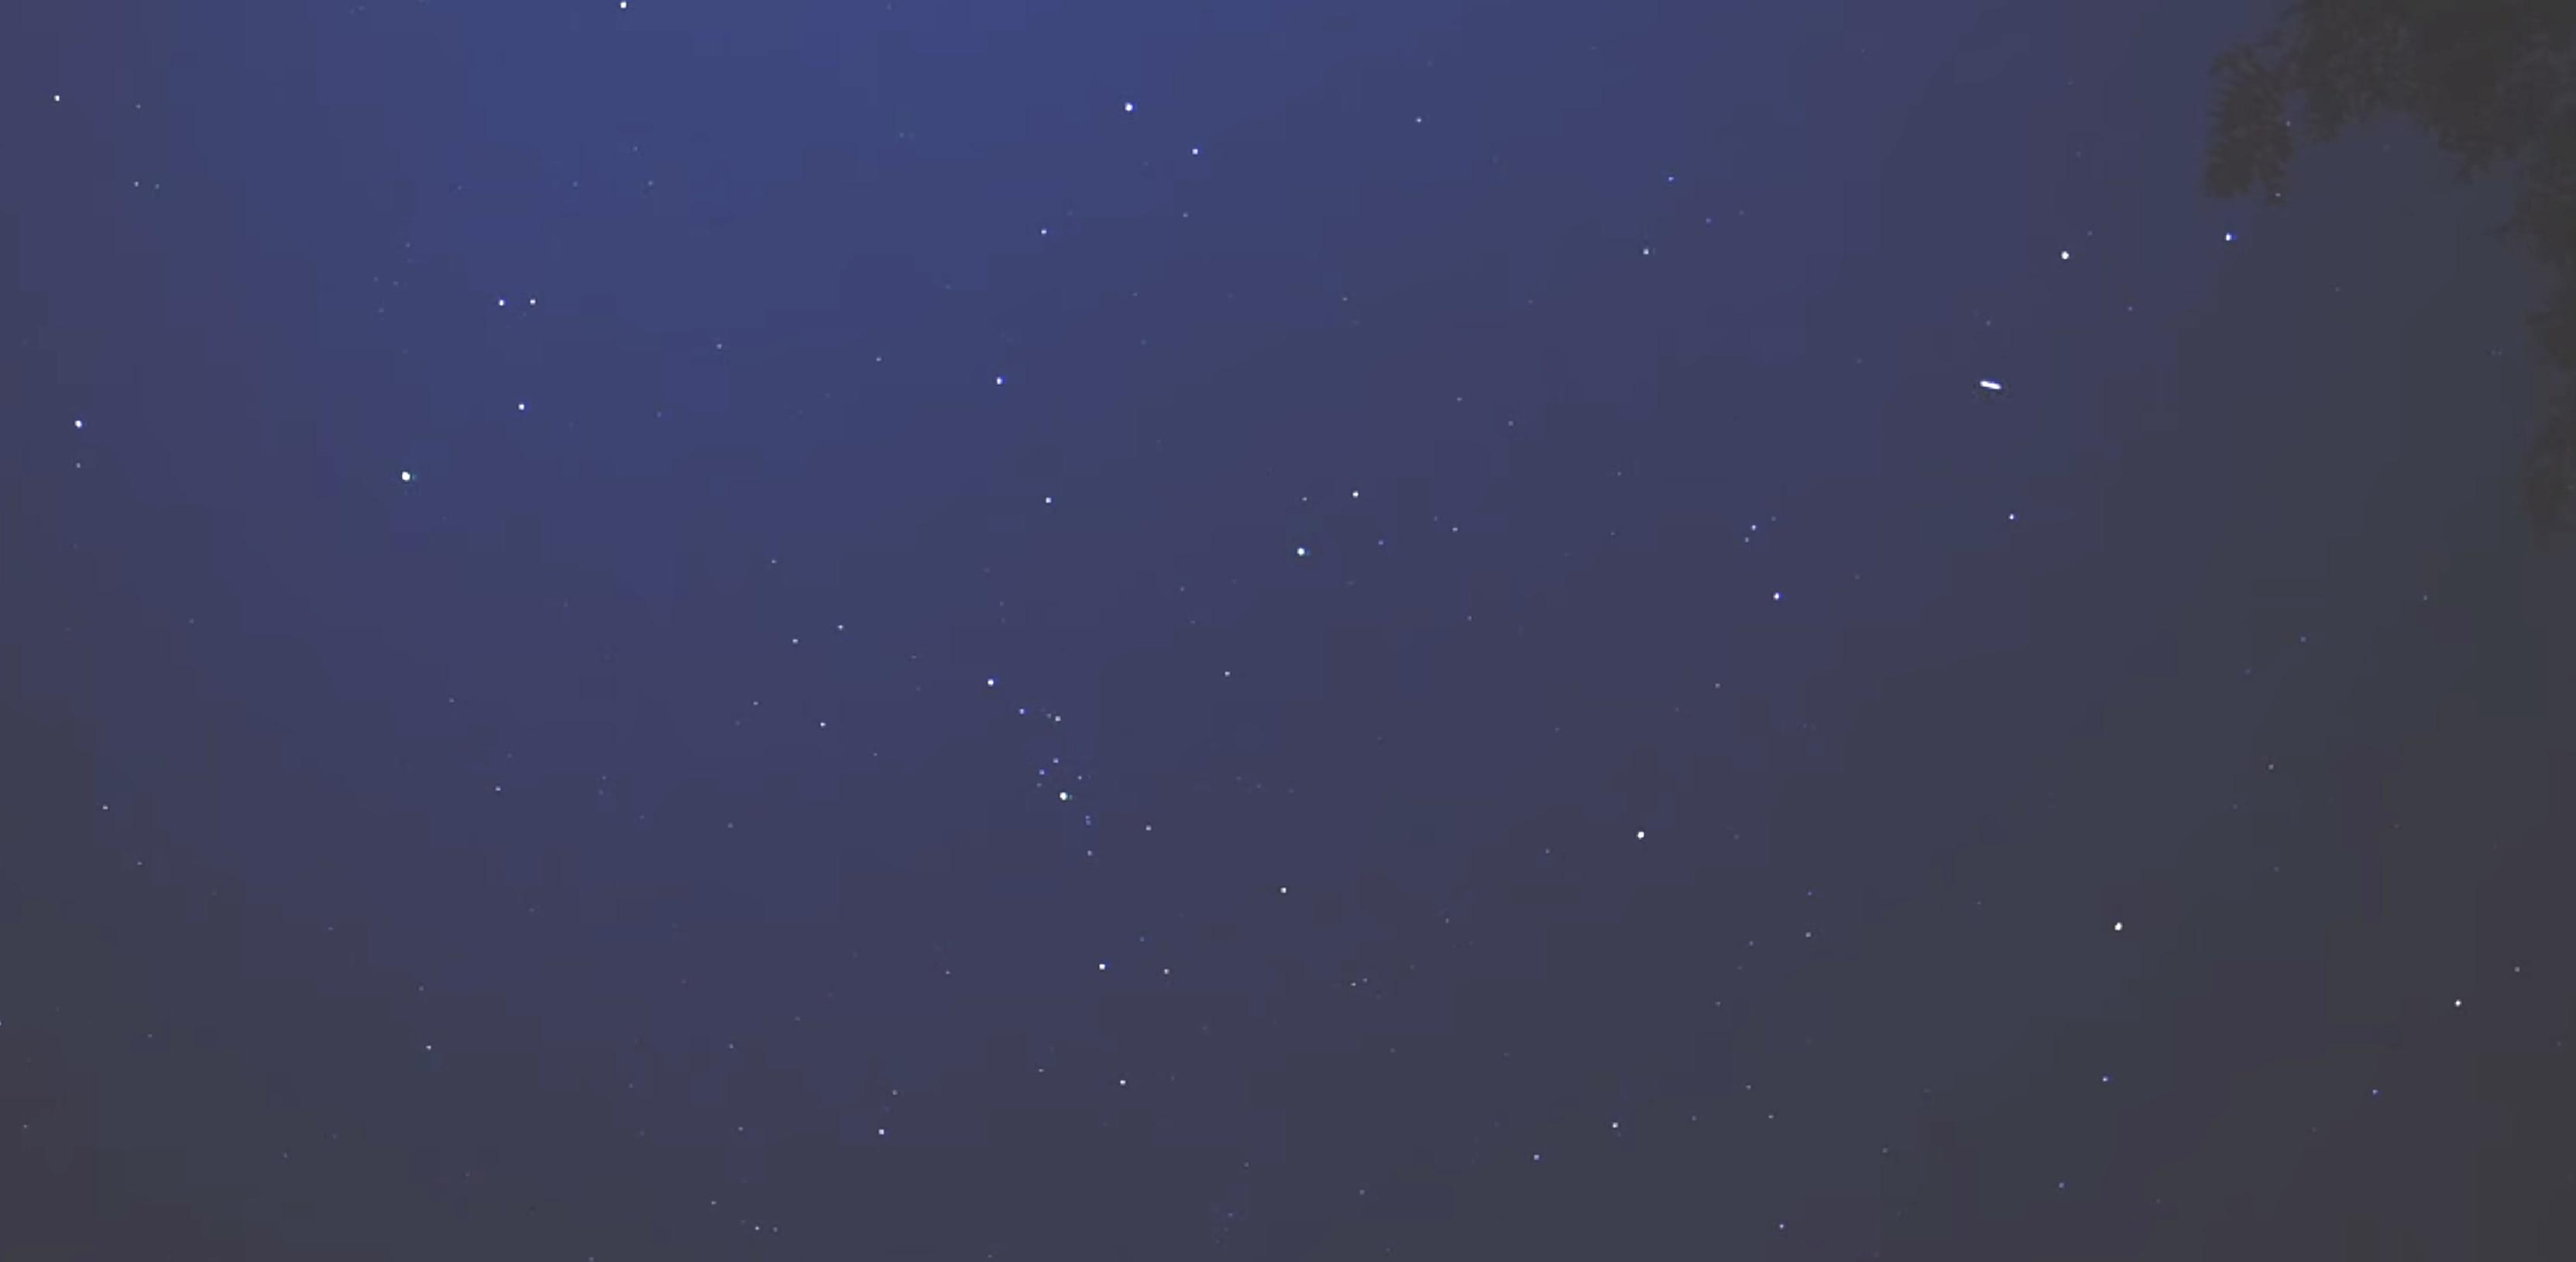meteorite: (1965, 378, 2021, 404)
